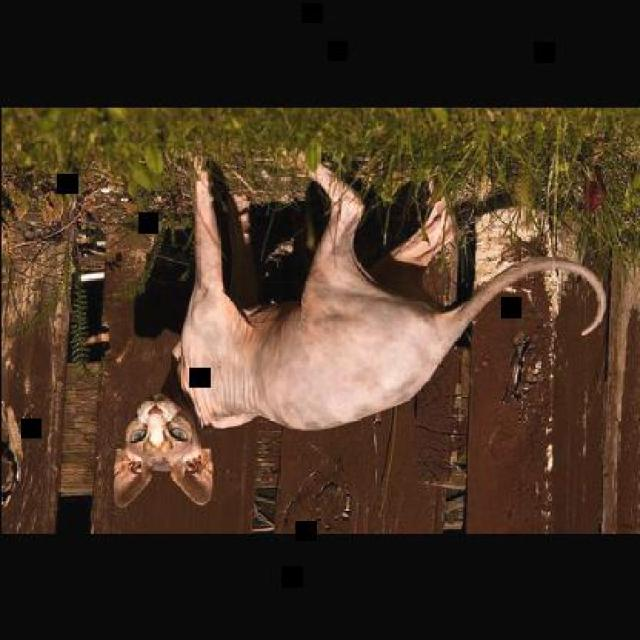unauthorized: (169, 151, 606, 432)
